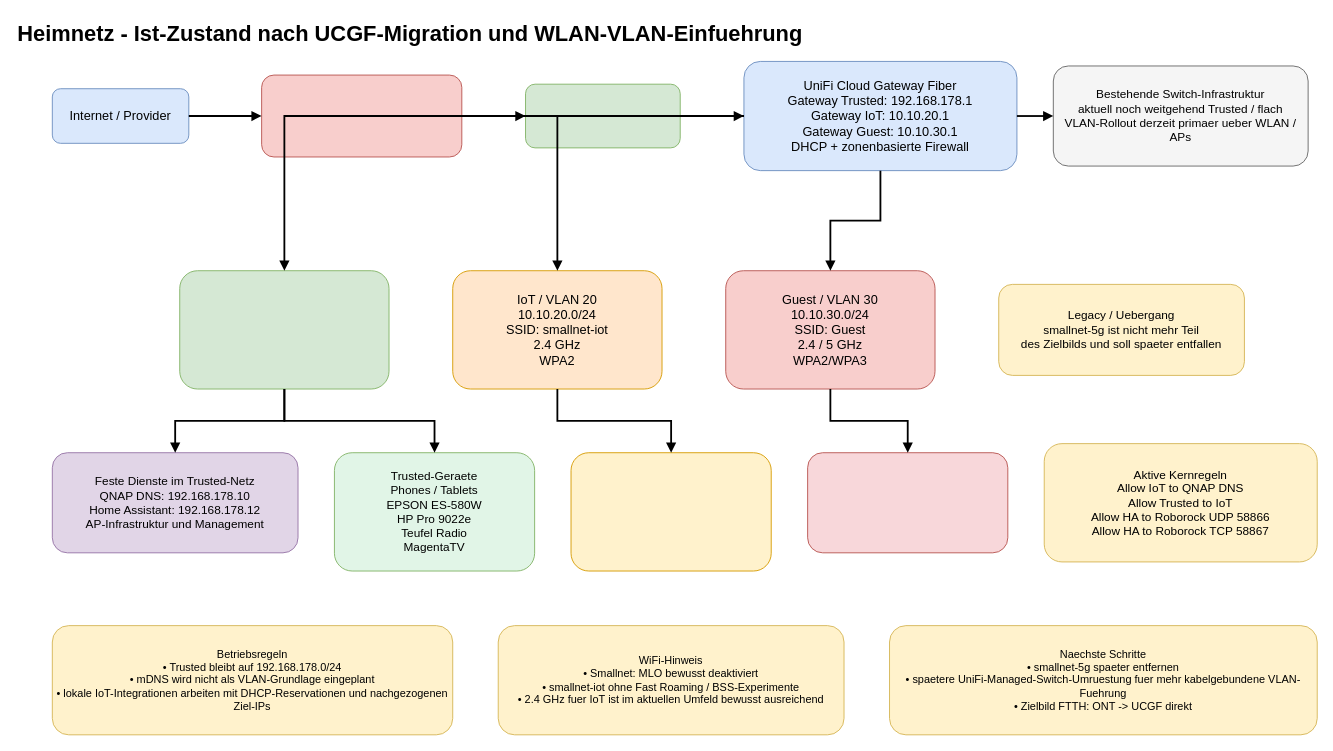
Some shapes in this 1333 by 751 pixel diagram are drawn without their labels. Here are the shapes that lost their labels. From the top down, the centre of each, then its label:
At (x=361, y=115): "FRITZ!Box 7590 AX Upstream-Gateway / NAT 192.168.180.1".
At (x=602, y=115): "WAN / Vornetz 192.168.180.0/24".
At (x=284, y=329): "Trusted / Default 192.168.178.0/24 SSID: Smallnet 2.4 / 5 / 6 GHz WPA2/WPA3".
At (x=670, y=511): "IoT-Geraete Echo / Echo Show WLED / ESPHome Roborock L900".
At (x=907, y=502): "Guest-Geraete nur Besuchergeraete keine festen Haushaltsgeraete".
